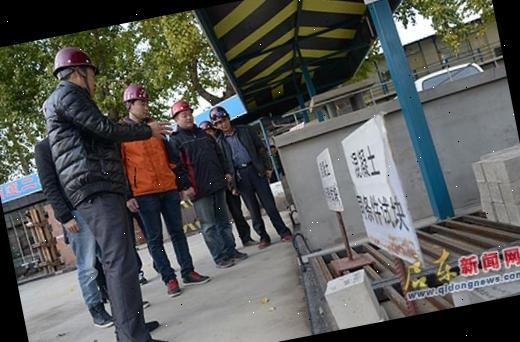helmet: (46, 42, 96, 80), (120, 77, 150, 105), (208, 104, 232, 128), (167, 98, 194, 117)
no_wear: (38, 82, 124, 204), (113, 114, 184, 200), (216, 126, 263, 184)
wear: (171, 125, 223, 199)
